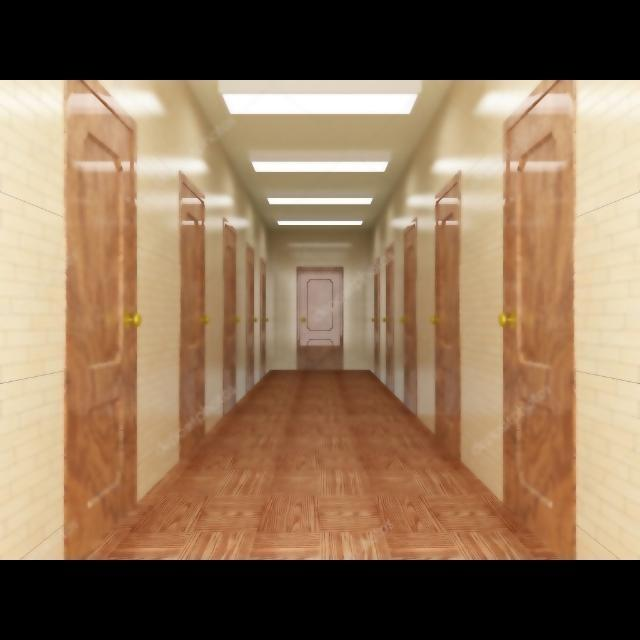door: (54, 79, 142, 557), (500, 80, 576, 558), (171, 166, 211, 462), (432, 168, 470, 458)
